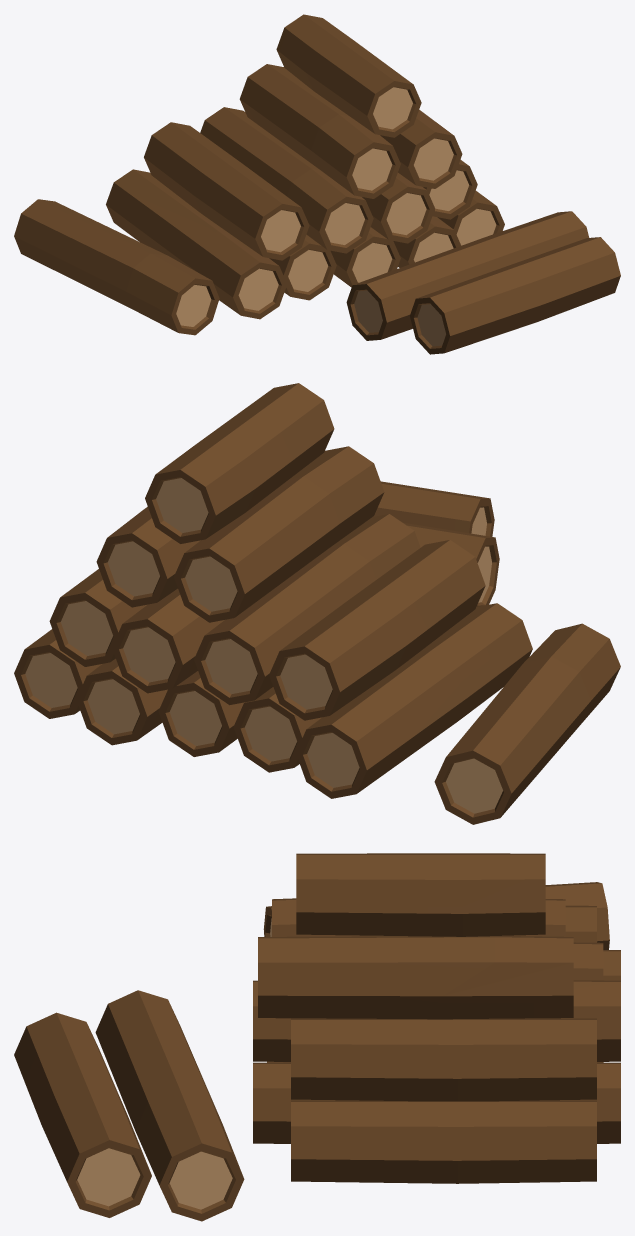
The model's file is timber_a.gltf.
The picture shows the model from 3 angles, top to bottom: view 1: azimuth 30°, elevation 25°; view 2: azimuth 150°, elevation 25°; view 3: azimuth 270°, elevation 25°; orthographic projection. The views are drawn at different scales.
Parts seen in each view (by area): view 1: timber_a001; view 2: timber_a001; view 3: timber_a001.
Part boxes in pixels (<box>): timber_a001: <box>14,14,620,354</box>; timber_a001: <box>14,383,620,824</box>; timber_a001: <box>14,853,620,1221</box>.
Size of the model in its own units: 1.08 by 0.4904 by 0.9887.
Materials: 1 (1 with a texture image).
